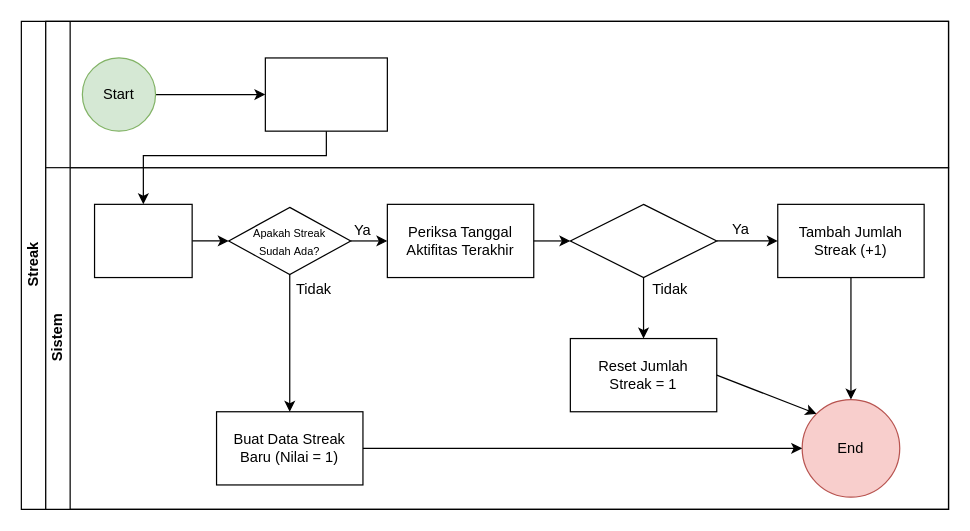
Some shapes in this 970 by 531 pixel diagram are drawn without their labels. Here are the shapes that lost their labels. From the top down, the box of each, then its label:
(264, 57, 387, 131): Menyelesaikan Target Belajar
(45, 20, 949, 168): Pengguna
(93, 203, 192, 278): Memeriksa Data Streak
(569, 203, 717, 278): Aktifitas Terakhir Kemarin
